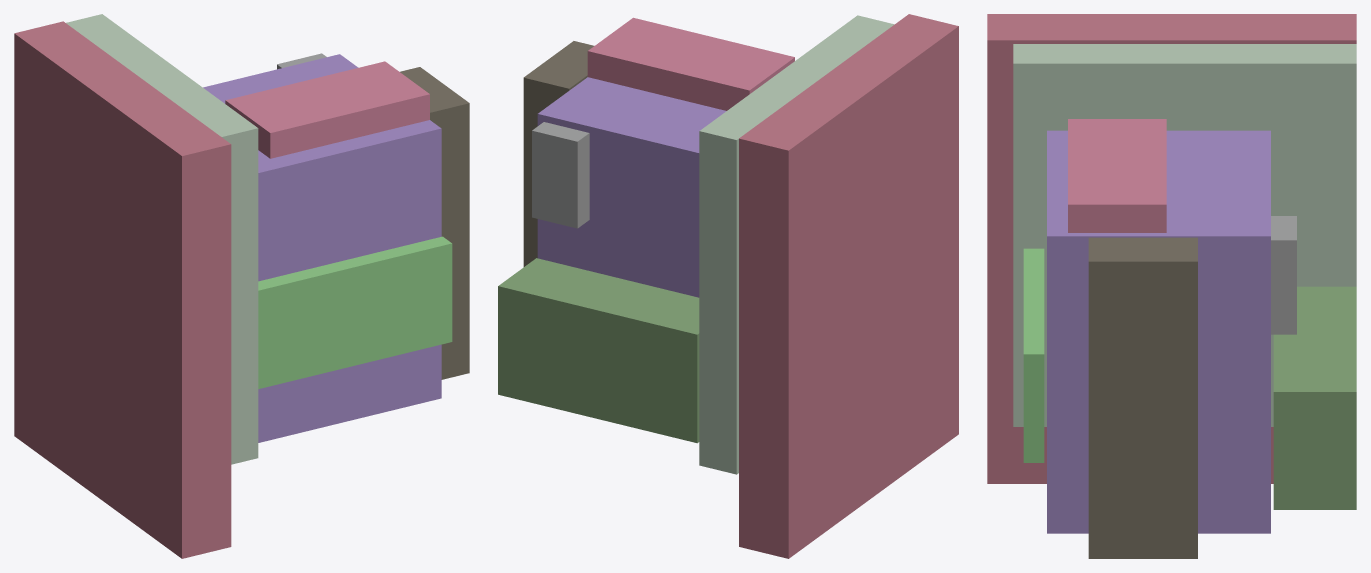
3 views of the same model, side by side, from view 1: azimuth 30°, elevation 25°; view 2: azimuth 150°, elevation 25°; view 3: azimuth 270°, elevation 25° (orthographic). The views are drawn at different scales.
Parts seen in each view (by area): view 1: world; view 2: world; view 3: world.
Part boxes in pixels (x1,y1,x2,y2): world: [14, 14, 469, 558]; world: [498, 14, 958, 558]; world: [987, 14, 1356, 558].
Bounding box in the file's own units: 8.15 × 9.4 × 7.1.
